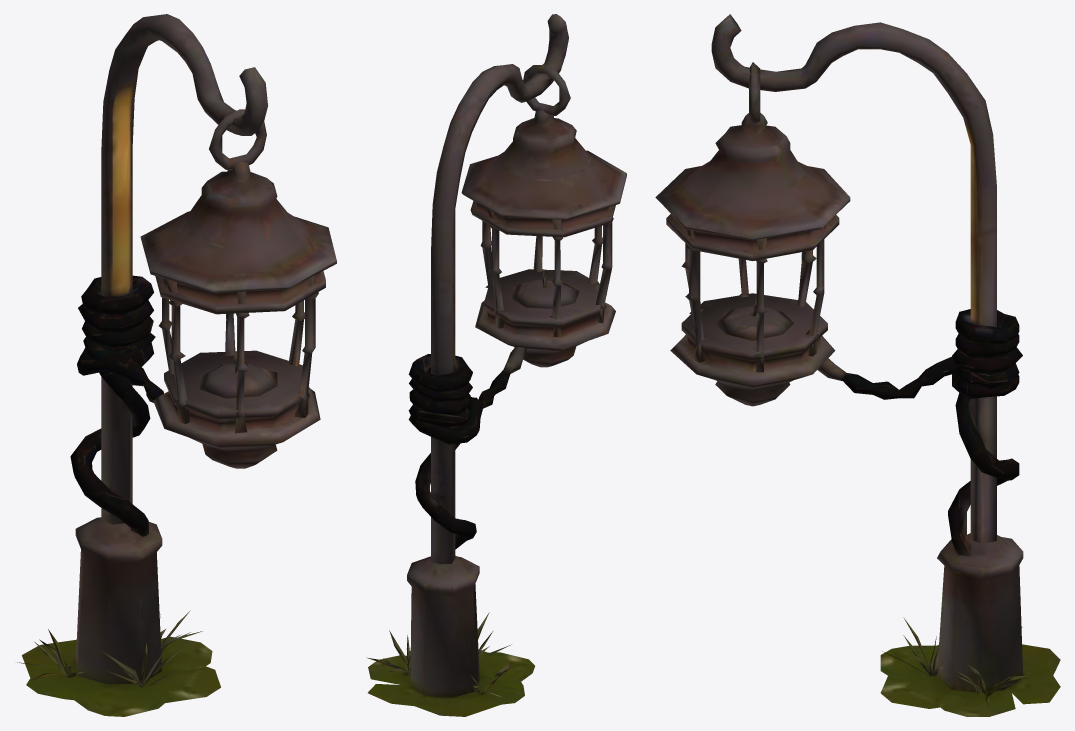
File: wyn_accord_lamp_hook.glb
The picture shows the model from 3 angles, left to right: view 1: azimuth 30°, elevation 25°; view 2: azimuth 150°, elevation 25°; view 3: azimuth 270°, elevation 25°; orthographic projection. The views are drawn at different scales.
Visible parts, largest first — view 1: tripo_node_5b07b706-bdcf-4579-b389-6d09d8aeacdb; view 2: tripo_node_5b07b706-bdcf-4579-b389-6d09d8aeacdb; view 3: tripo_node_5b07b706-bdcf-4579-b389-6d09d8aeacdb.
Boxes of the visible parts, x1=… form: tripo_node_5b07b706-bdcf-4579-b389-6d09d8aeacdb: x1=17, y1=14, x2=336, y2=716; tripo_node_5b07b706-bdcf-4579-b389-6d09d8aeacdb: x1=366, y1=14, x2=626, y2=716; tripo_node_5b07b706-bdcf-4579-b389-6d09d8aeacdb: x1=655, y1=14, x2=1060, y2=716.
Bounding box in the file's own units: 0.4327 × 1.6 × 0.8816.
1 material, 1 textured.
